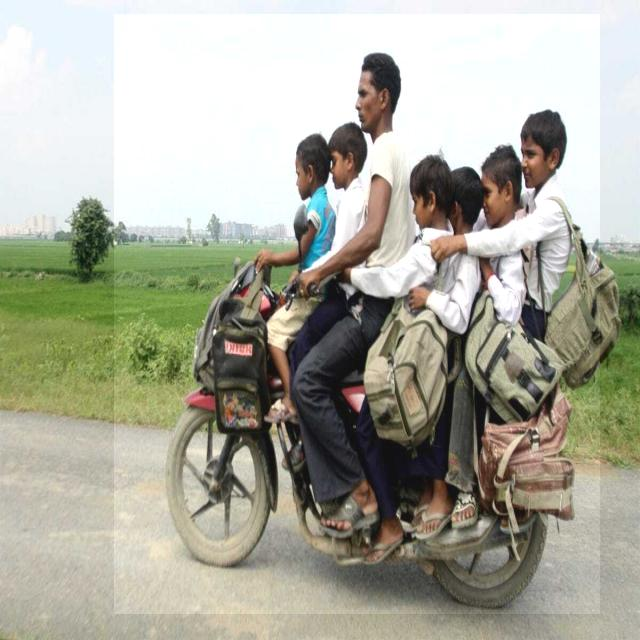Overloading: (114, 14, 600, 614)
